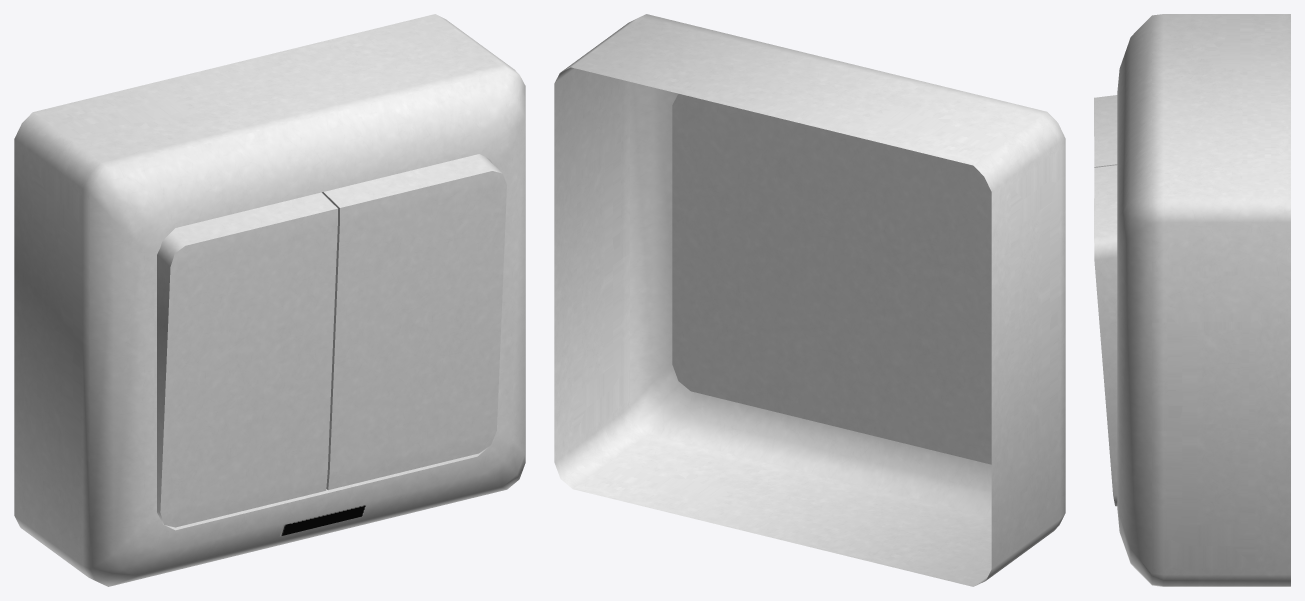
Rendered from KaiGuan01.FBX.
3 views of the same model, side by side, from view 1: azimuth 30°, elevation 25°; view 2: azimuth 150°, elevation 25°; view 3: azimuth 270°, elevation 25° (orthographic). The views are drawn at different scales.
Visible parts, largest first — view 1: YF_Model_KaiGuan_01; view 2: YF_Model_KaiGuan_01; view 3: YF_Model_KaiGuan_01.
Part boxes in pixels (x1=…): YF_Model_KaiGuan_01: x1=14, y1=14, x2=525, y2=586; YF_Model_KaiGuan_01: x1=554, y1=14, x2=1065, y2=586; YF_Model_KaiGuan_01: x1=1094, y1=14, x2=1290, y2=586.
Size of the model in its own units: 10.77 by 9.92 by 4.52.
2 materials, 2 textured.
